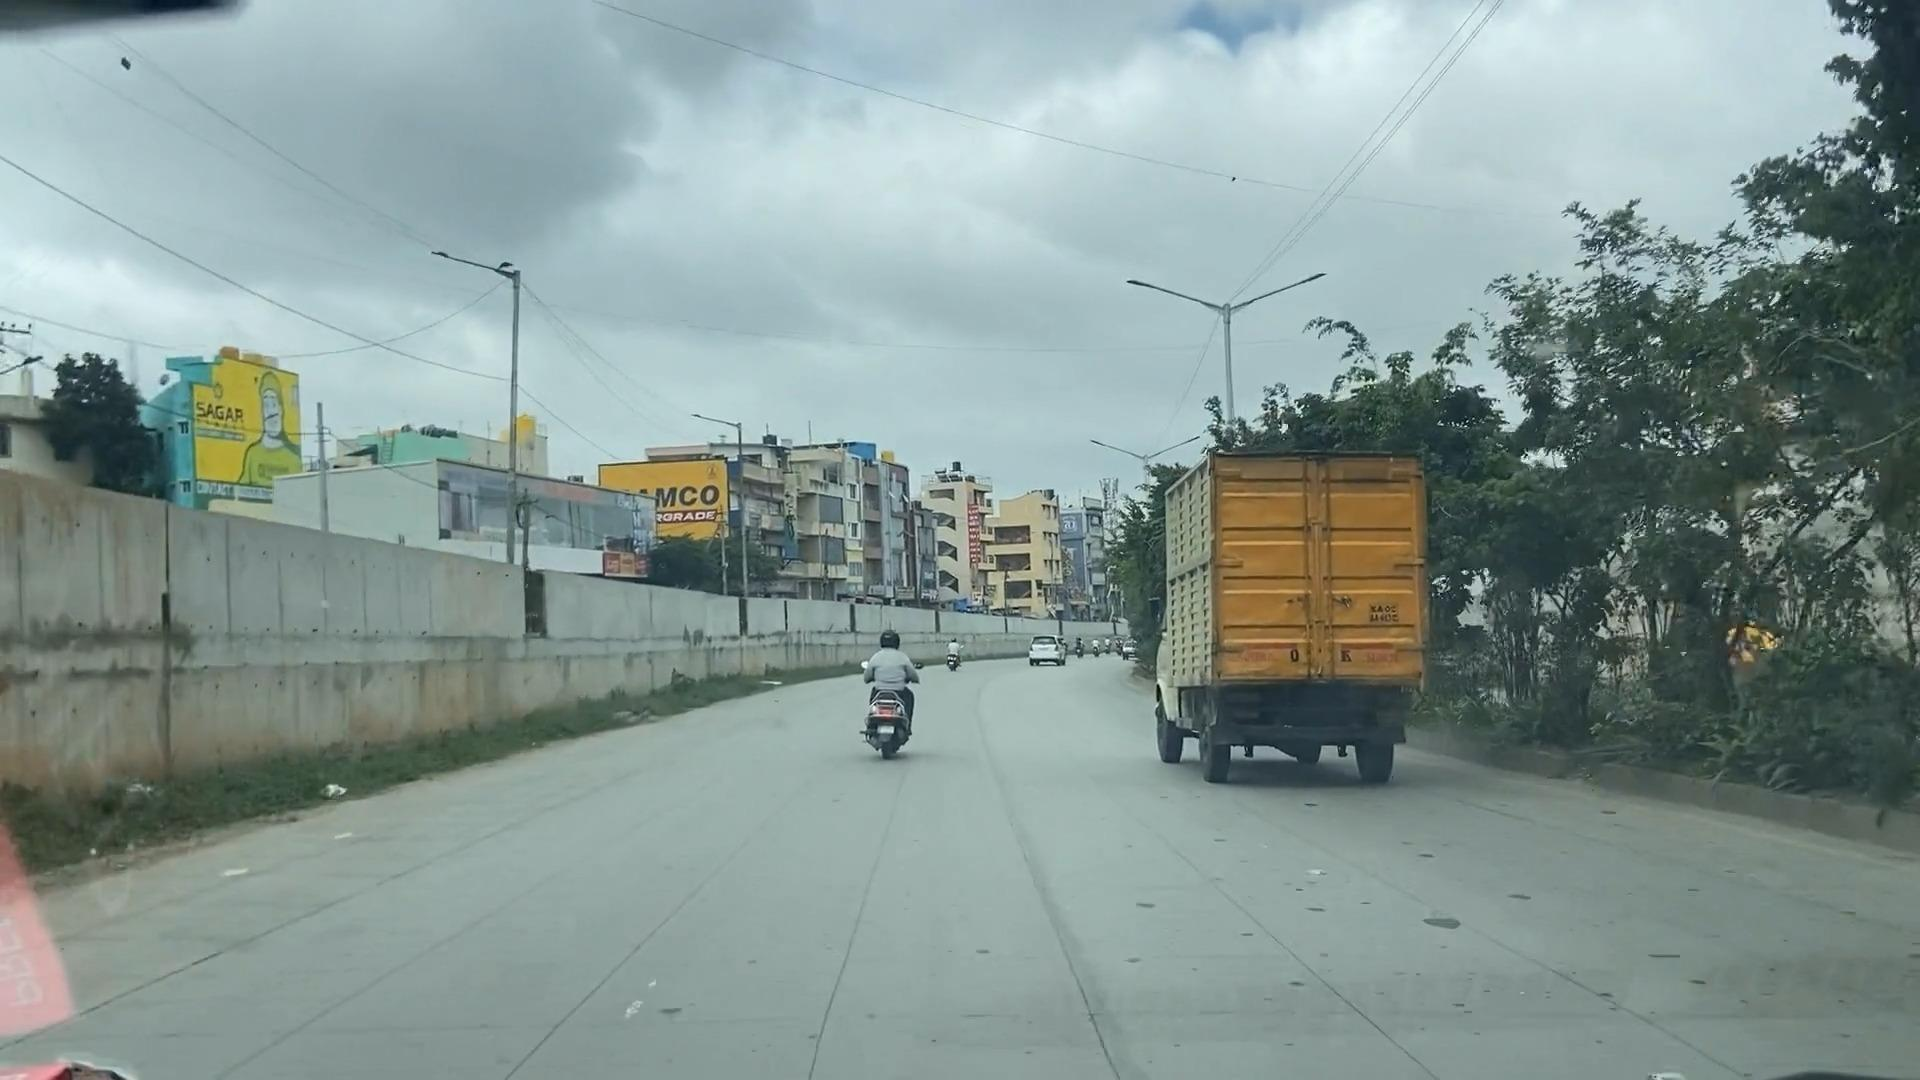HMV: (1131, 444, 1449, 820)
